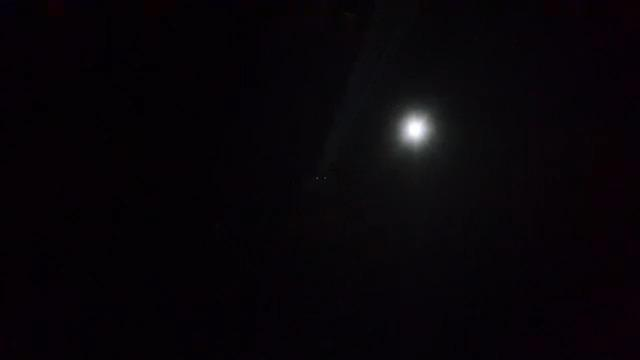Plane: (309, 122, 359, 185)
